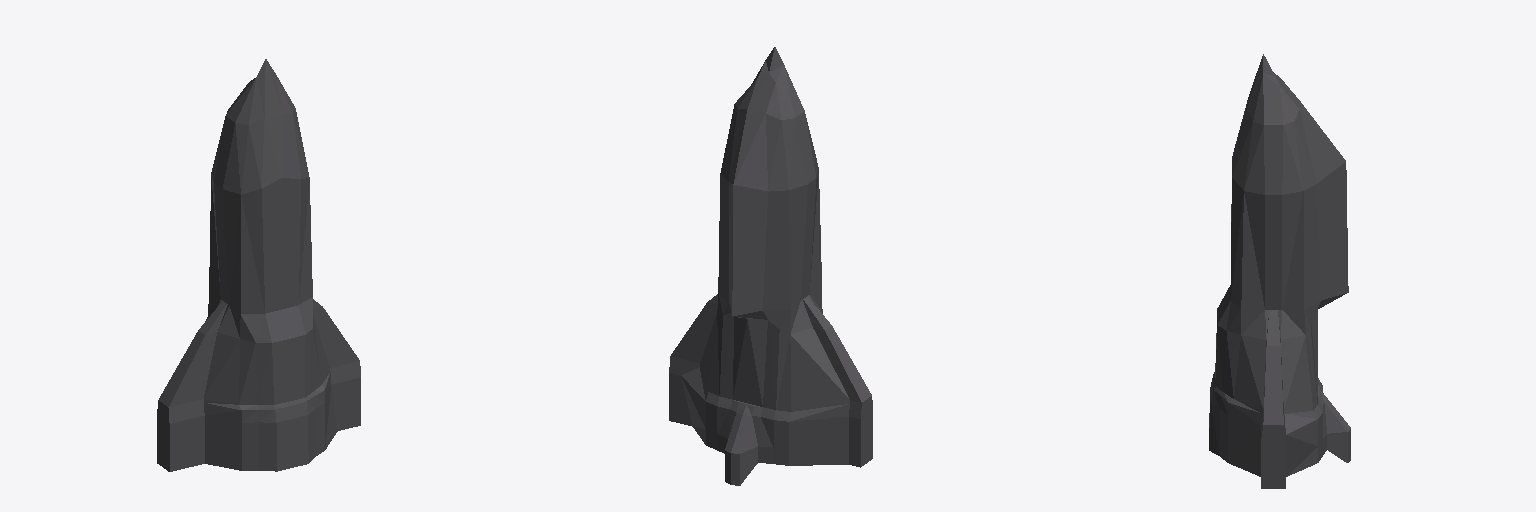
The model's file is FinalLander.obj.
The picture shows the model from 3 angles: view 1: azimuth 30°, elevation 25°; view 2: azimuth 150°, elevation 25°; view 3: azimuth 270°, elevation 25°; orthographic projection.
Parts seen in each view (by area): view 1: MarsLander; view 2: MarsLander; view 3: MarsLander.
Boxes of the visible parts, x1,y1,x2,y2 form: MarsLander: [157, 59, 360, 471]; MarsLander: [669, 47, 872, 485]; MarsLander: [1209, 54, 1350, 488].
Size of the model in its own units: 9.37 by 19 by 6.04.